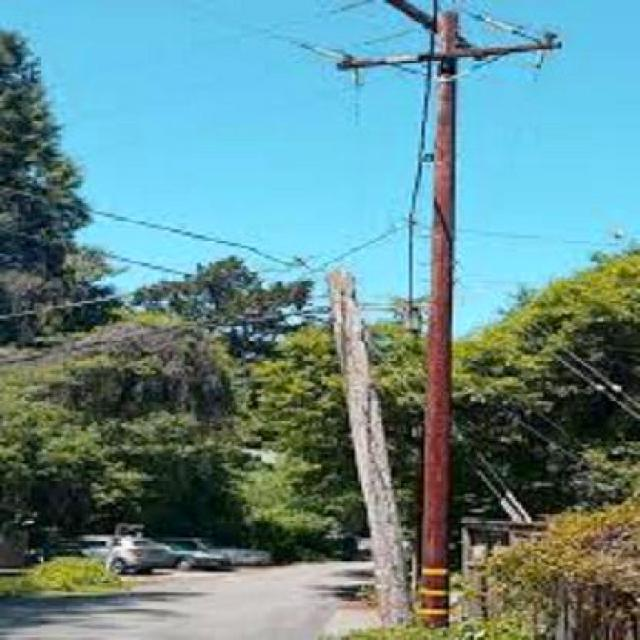crossarm: (344, 33, 563, 73)
pole: (326, 269, 408, 626), (422, 12, 456, 625)
wire: (2, 177, 304, 271)
